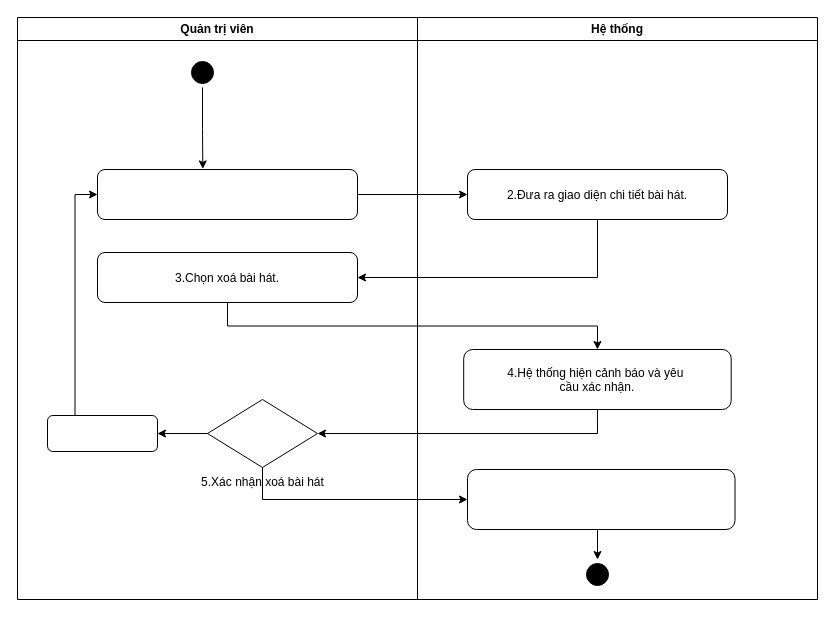
Image size: 835x617. Some labels were removed from this diagram. Here are the shapes that lost their labels. From the top down, the centre of each, then its label:
At point (227, 194): "1.Chọn 1 bài hát trên trang chủ.".
At point (102, 433): "5.1 Chọn huỷ xoá.".
At point (600, 499): "6.Hệ thống xoá bài hát khỏi cơ sở dữ liệu.".
